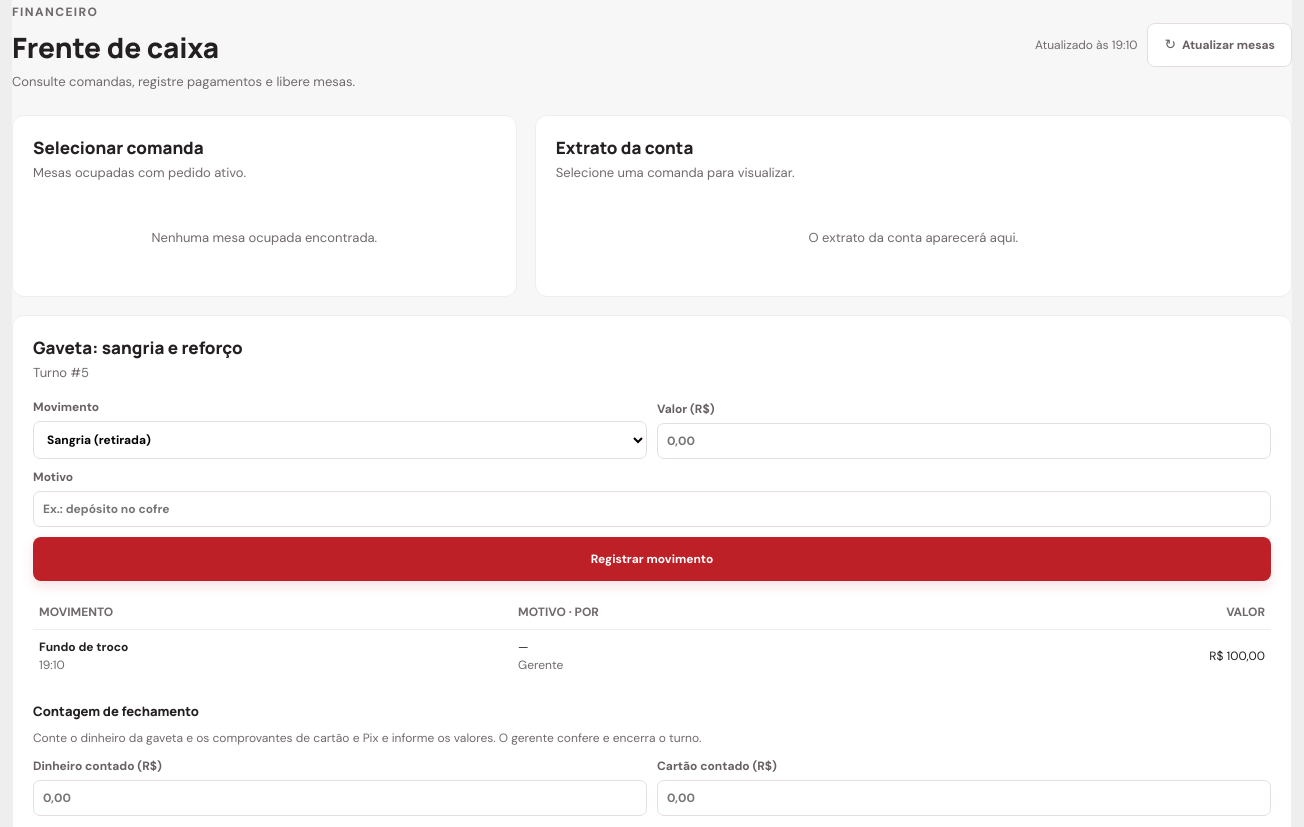
Movimentos de caixa nas telas (RN-13) › Caixa registra sangria, recarrega a lista e nunca vê o dinheiro esperado
The image size is (1304, 827).
Expected: the text "Fundo de troco" is shown, [39,639,128,655]
Select "Sangria (retirada)" in the dropdown labelled "Movimento" at (340, 440), box [33,421,647,459]
Type "150" into the number field labelled "Valor (R$)".
click(964, 441); type("150")  # box [657,423,1271,459]
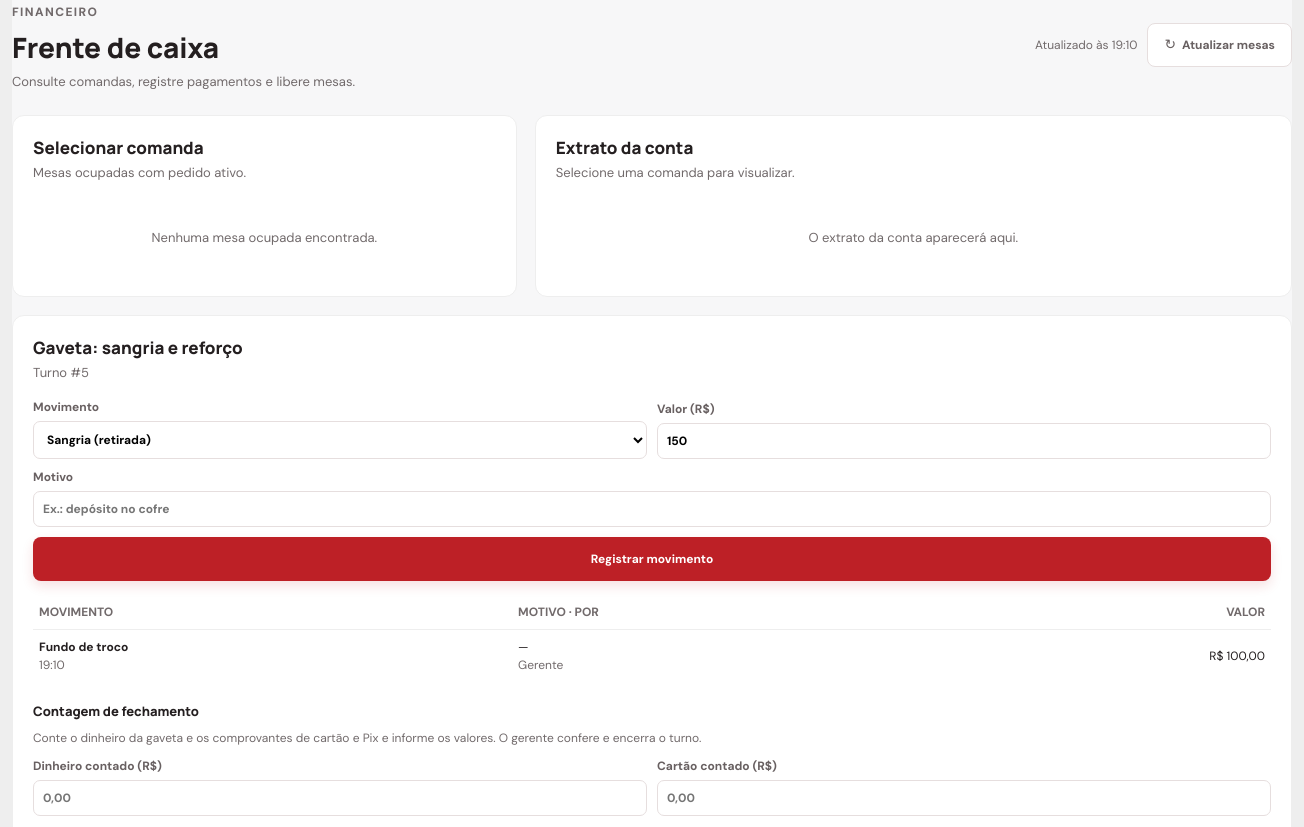
Type "Falha" into the field labelled "Motivo".
click(652, 509); type("Falha")  # box [33,491,1271,527]
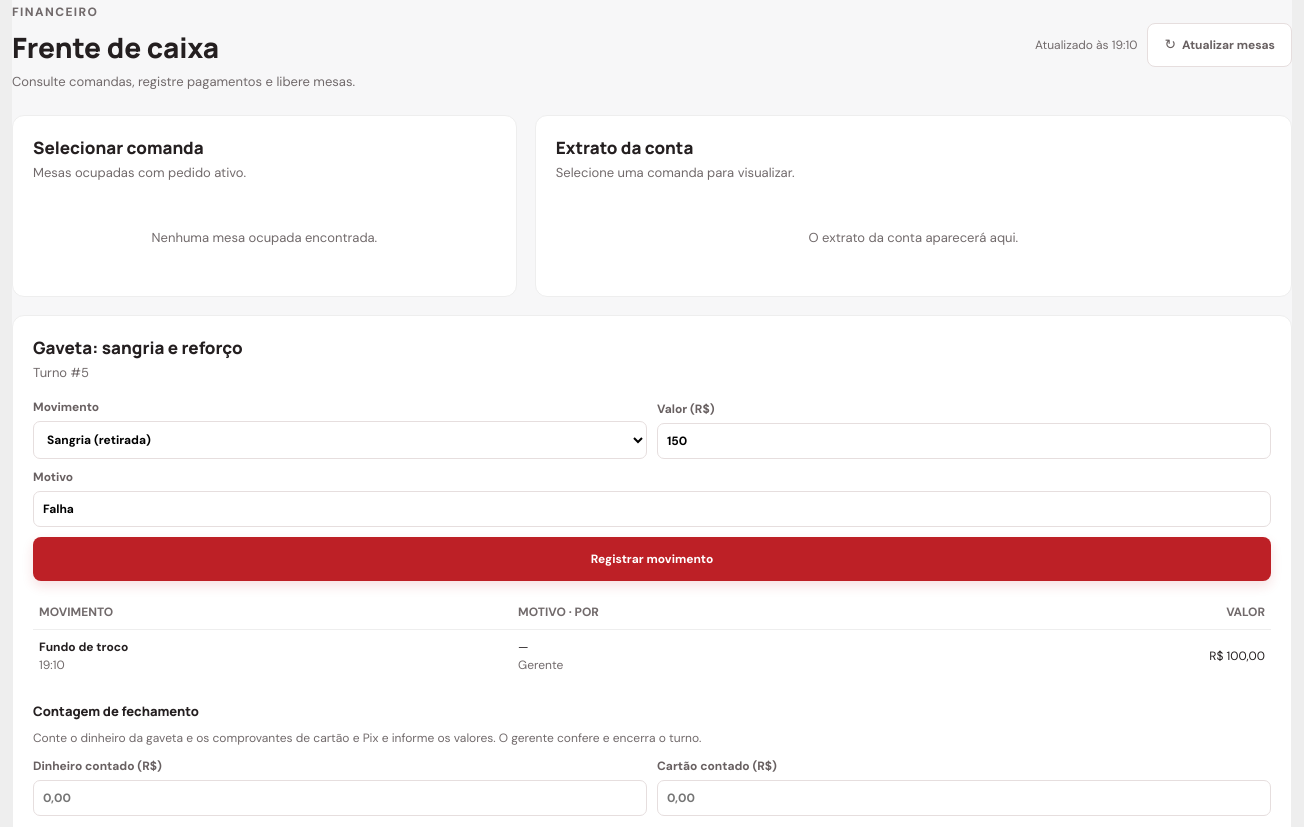
Click the button "Registrar movimento".
click(652, 559)  # box [33,537,1271,581]
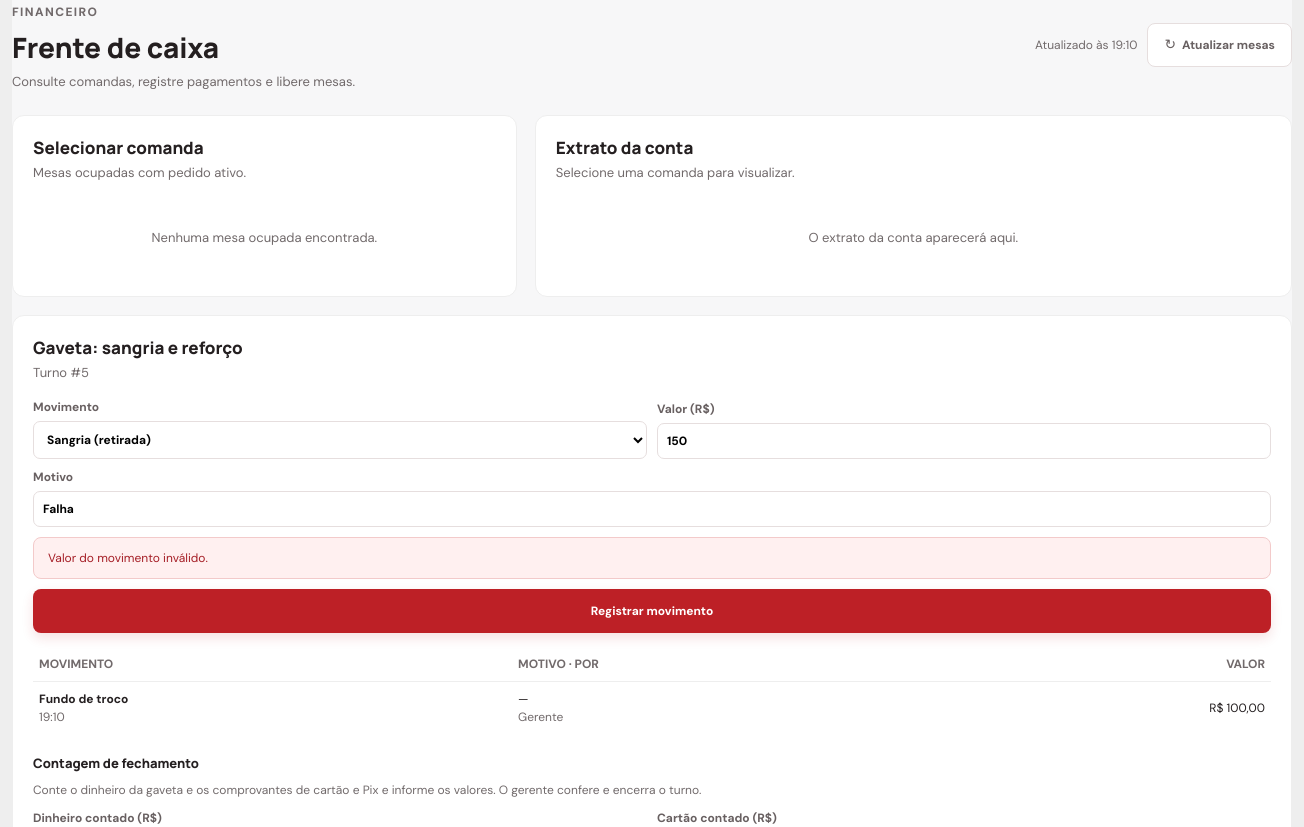
Now the text "Valor do movimento inválido." is shown, box [33,537,1271,579]
Select "Sangria (retirada)" in the dropdown labelled "Movimento" at (340, 440), box [33,421,647,459]
Replace the text in the number field labelled "Valor (R$)" with "40" at (964, 441), box [657,423,1271,459]
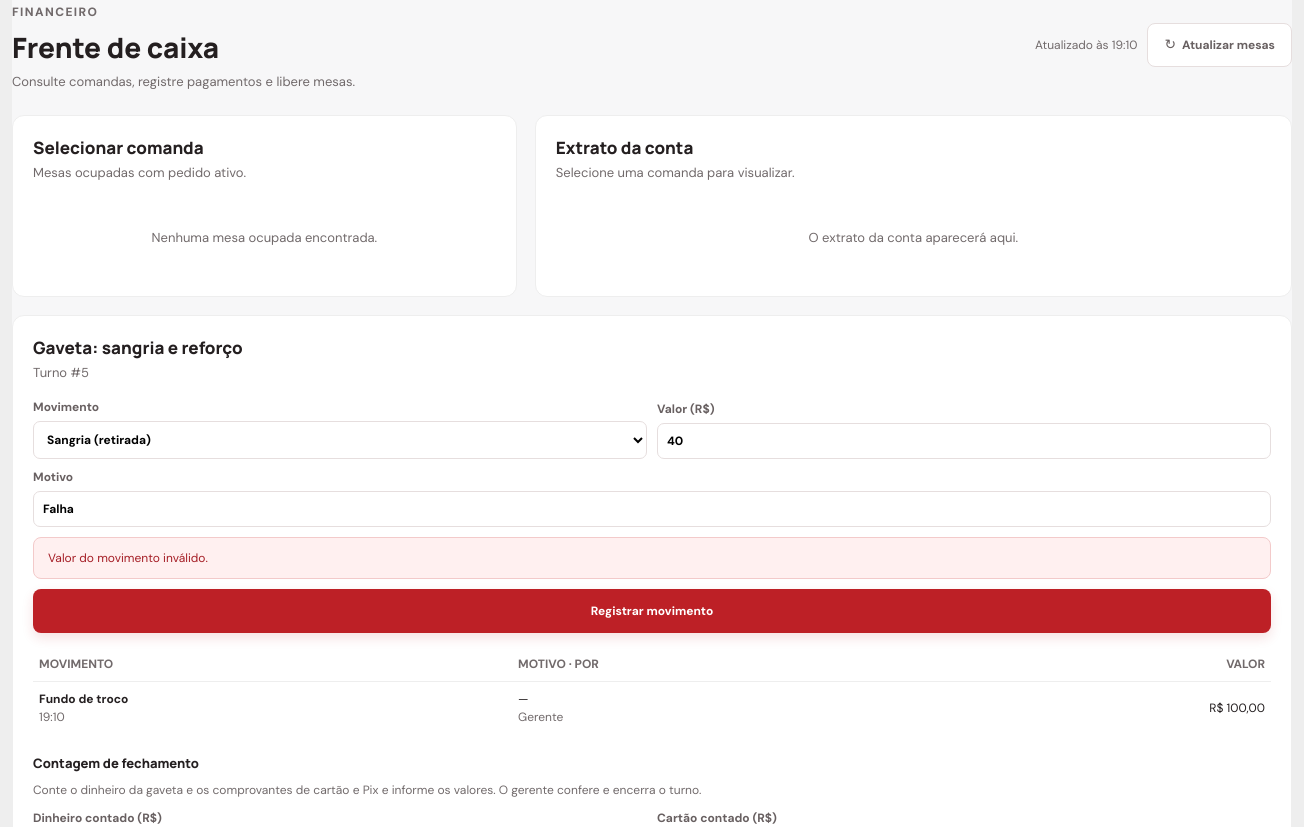
Replace the text in the field labelled "Motivo" with "Cofre" at (652, 509), box [33,491,1271,527]
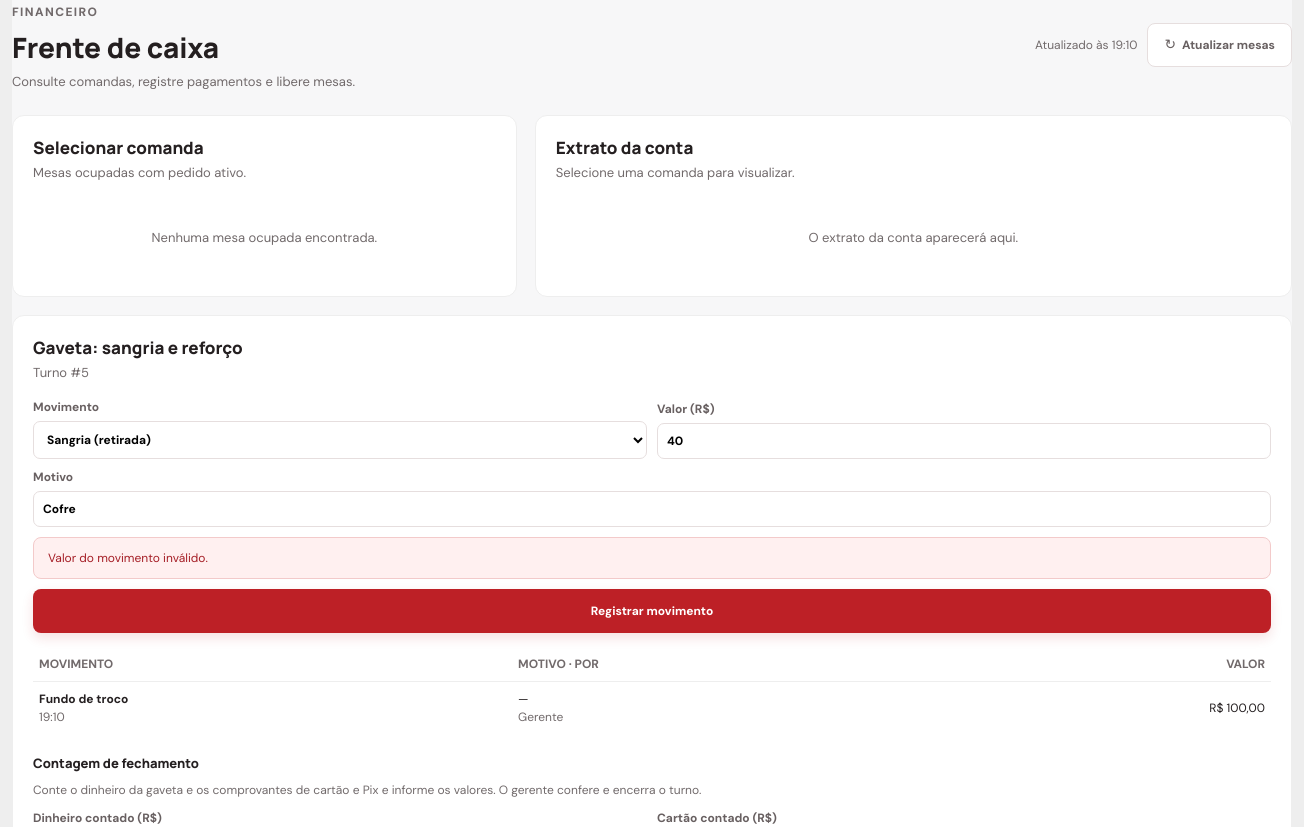
Click the button "Registrar movimento".
click(652, 611)  # box [33,589,1271,633]
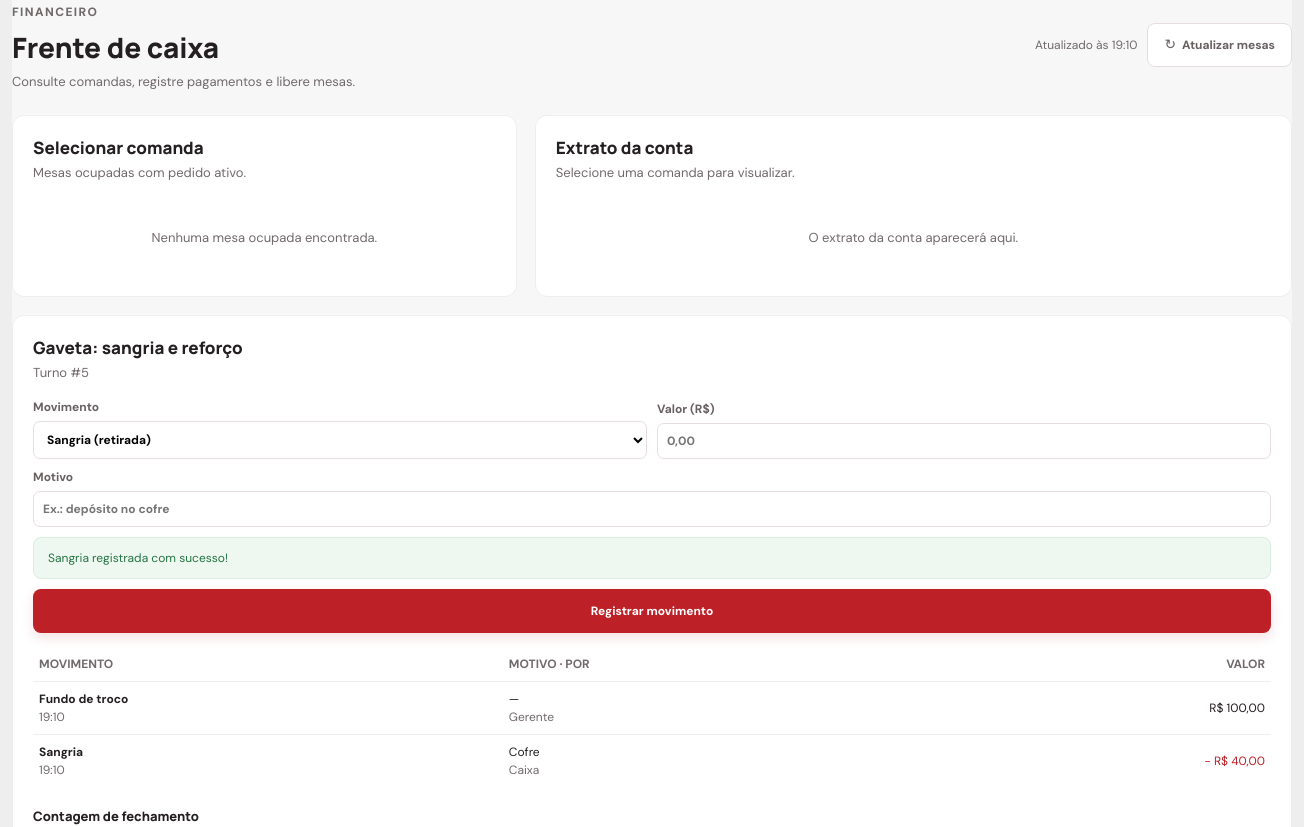
Now the text "Sangria registrada com sucesso!" is shown, box [33,537,1271,579]
Now the text "Sangria" is shown, box [39,744,83,760]
Now the number field labelled "Valor (R$)" is not empty, box [657,423,1271,459]
